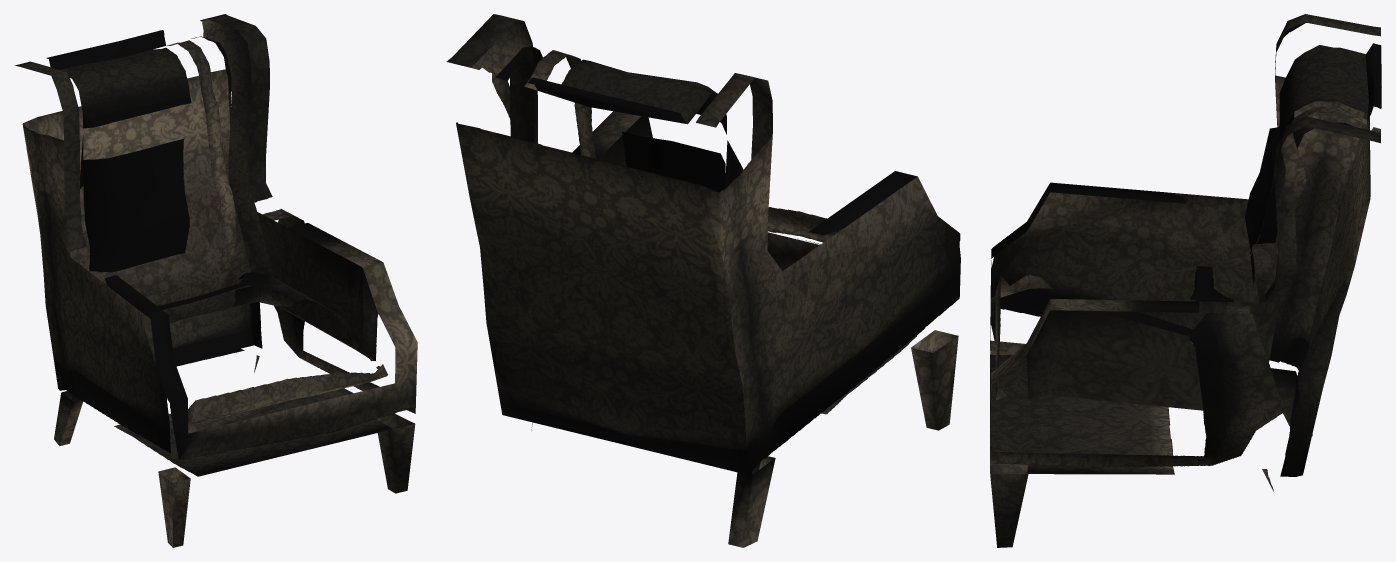
File: FabricArmchair.obj
The picture shows the model from 3 angles, left to right: view 1: azimuth 30°, elevation 25°; view 2: azimuth 150°, elevation 25°; view 3: azimuth 270°, elevation 25°; orthographic projection. The views are drawn at different scales.
Visible parts, largest first — view 1: Cube; view 2: Cube; view 3: Cube.
Part boxes in pixels (x1,y1,x2,y2): Cube: (14,14,417,547); Cube: (446,14,960,547); Cube: (990,14,1381,547).
Bounding box in the file's own units: 0.9296 × 1.31 × 1.13.
